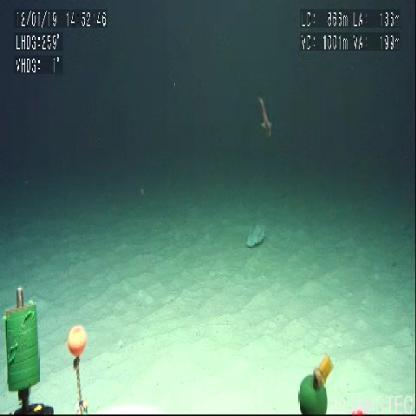Rác: (249, 224, 265, 247)
